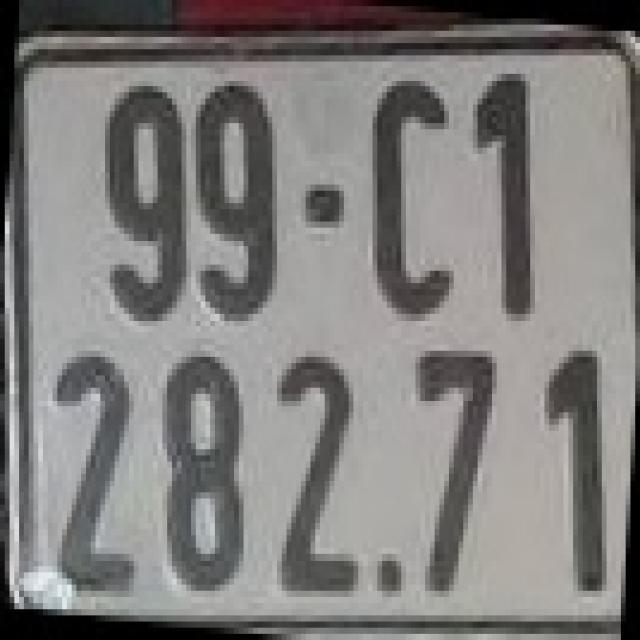1: (535, 344, 616, 598), (468, 67, 549, 320)
2: (267, 344, 363, 598), (48, 344, 138, 590)
7: (406, 338, 502, 597)
8: (158, 344, 248, 590)
9: (191, 74, 282, 320), (100, 80, 191, 320)
C: (363, 67, 458, 320)
